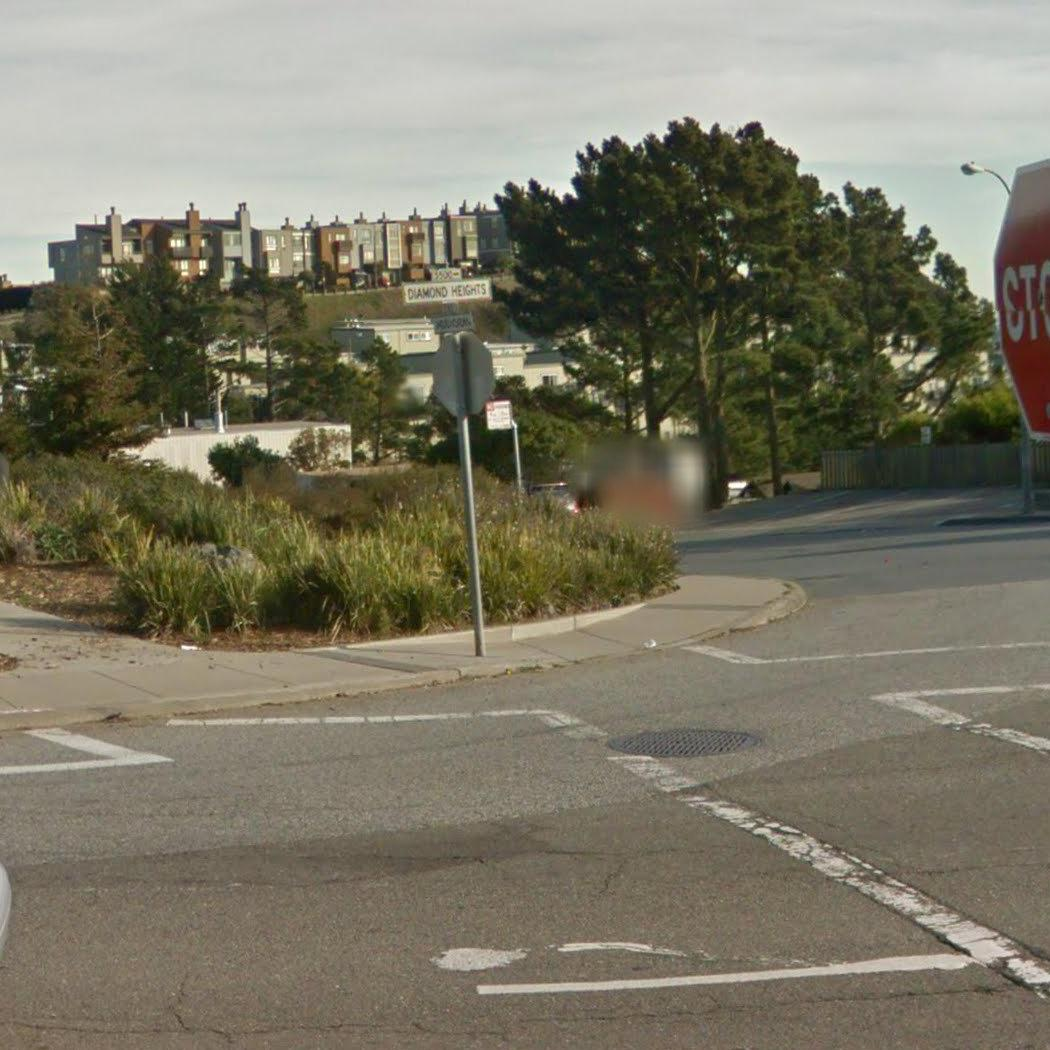No Parking: (486, 400, 512, 431)
